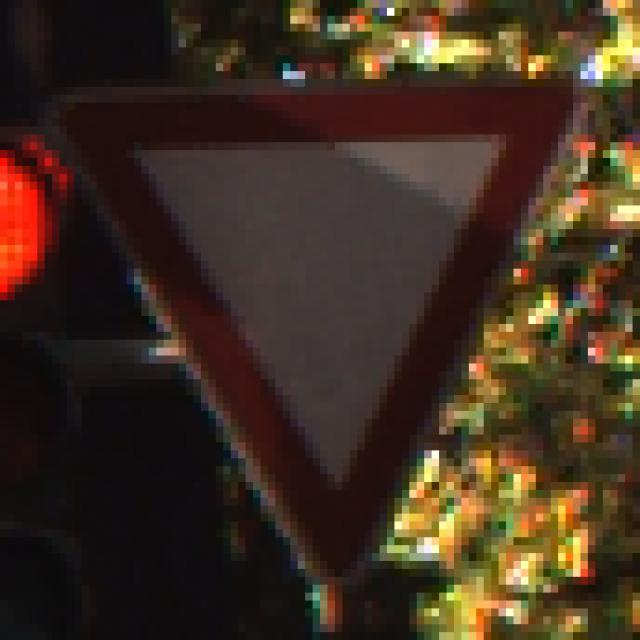Give Way: (53, 56, 582, 586)
